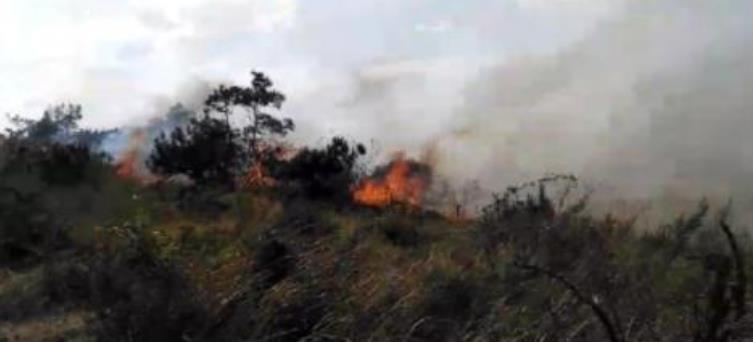fire: (335, 147, 438, 222), (236, 128, 306, 198), (115, 116, 149, 184)
